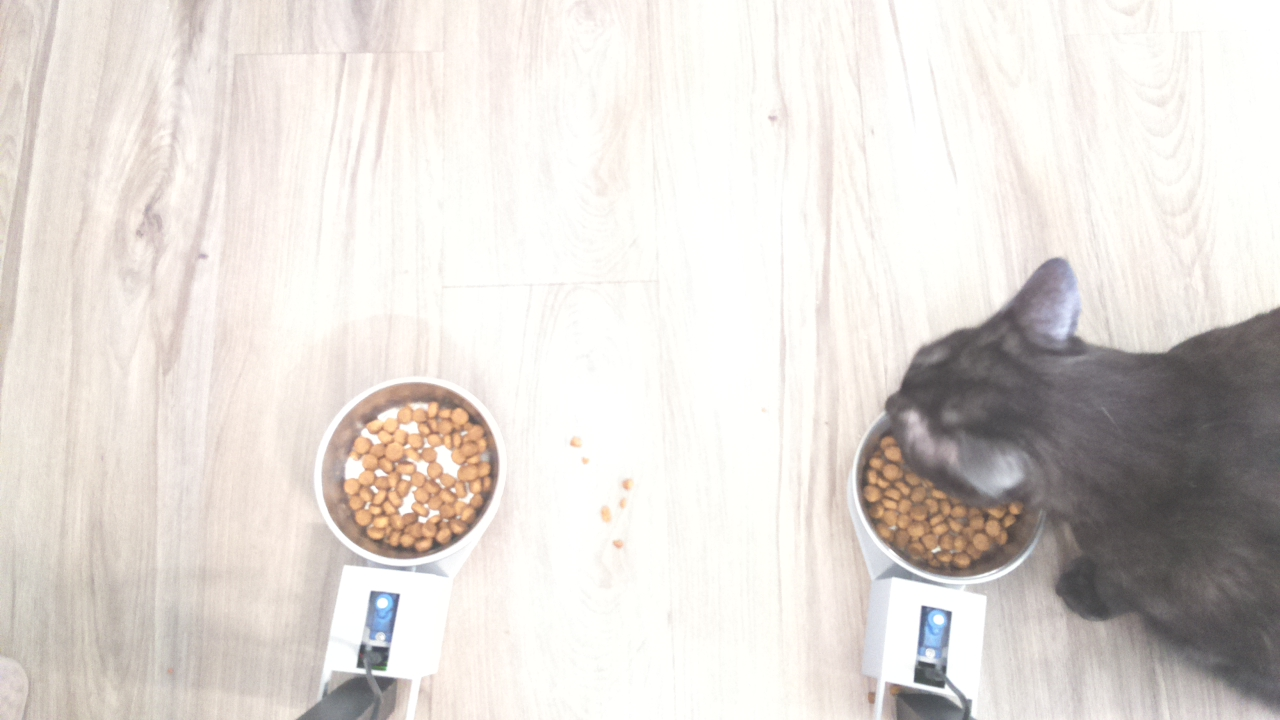open_bowl: (315, 375, 500, 570)
saki_eating: (855, 253, 1090, 589)
